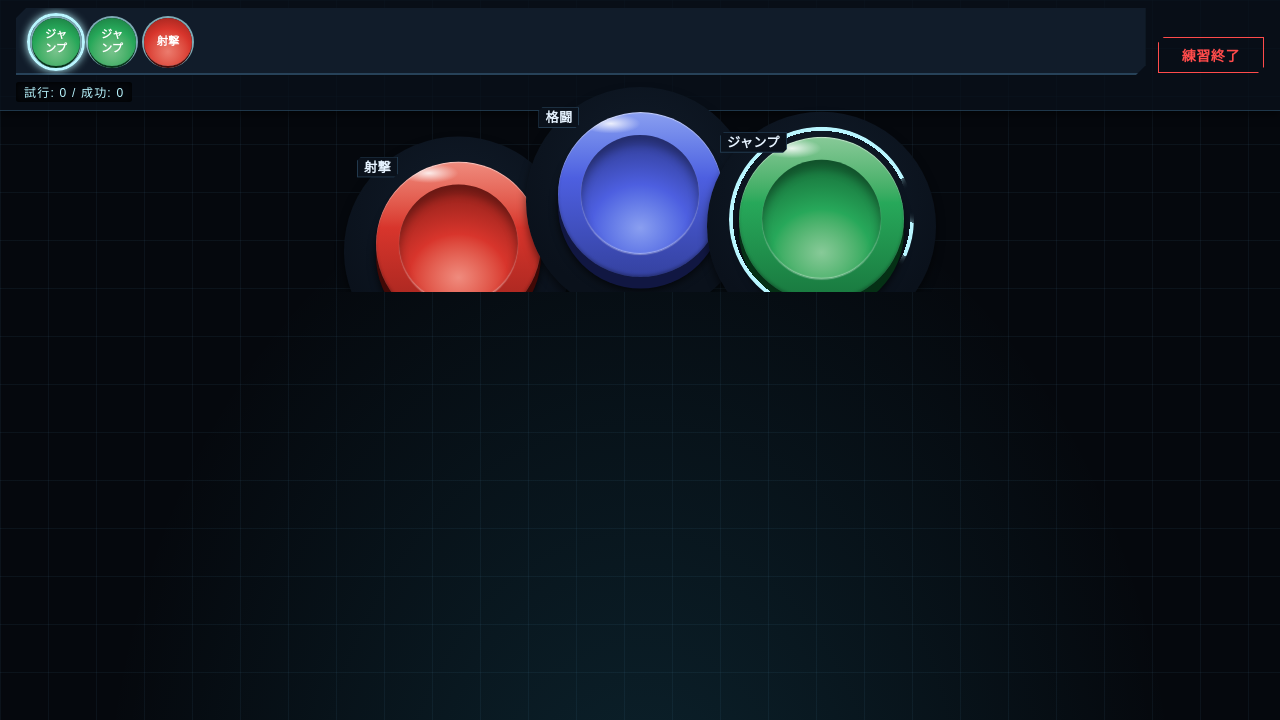
Scenario: PracticeSession › セッション終了 › 「練習終了」ボタンを押すと SessionResult が表示される
Click the button "練習終了" at (1211,55), box [1158,37,1264,73]
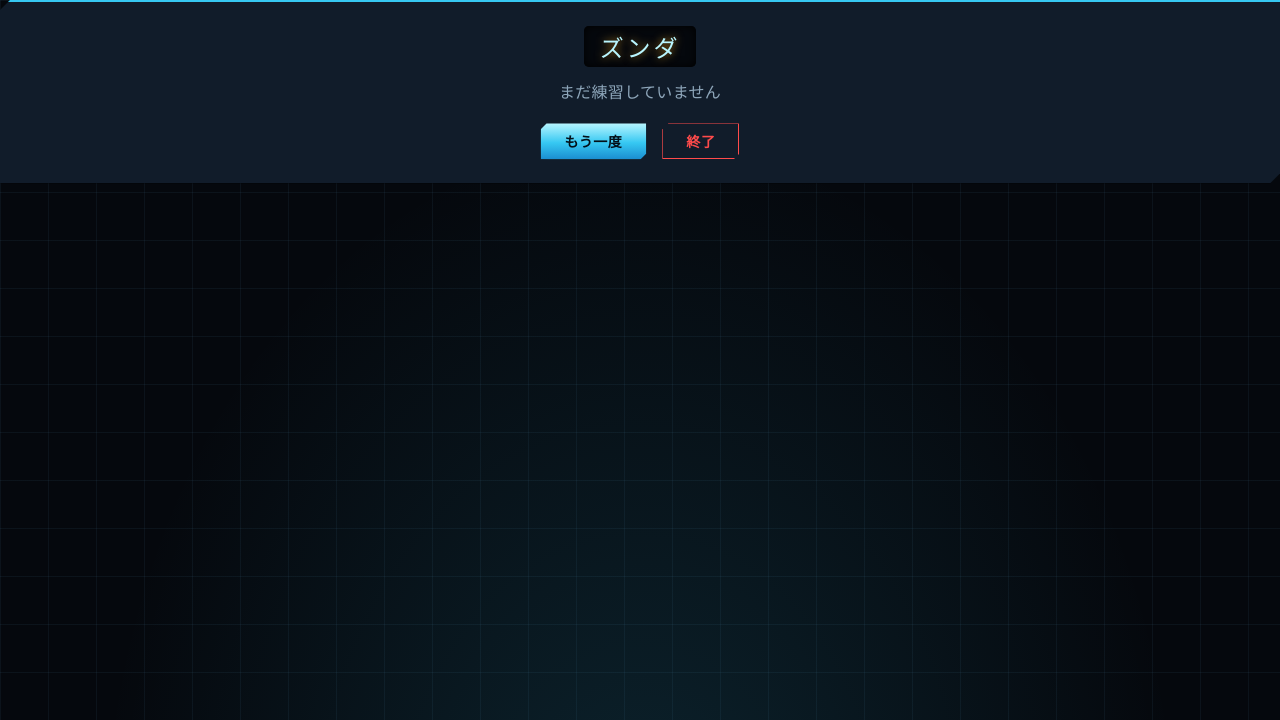
Result: the element with test id "session-result" is shown at [0,0,1279,183]
